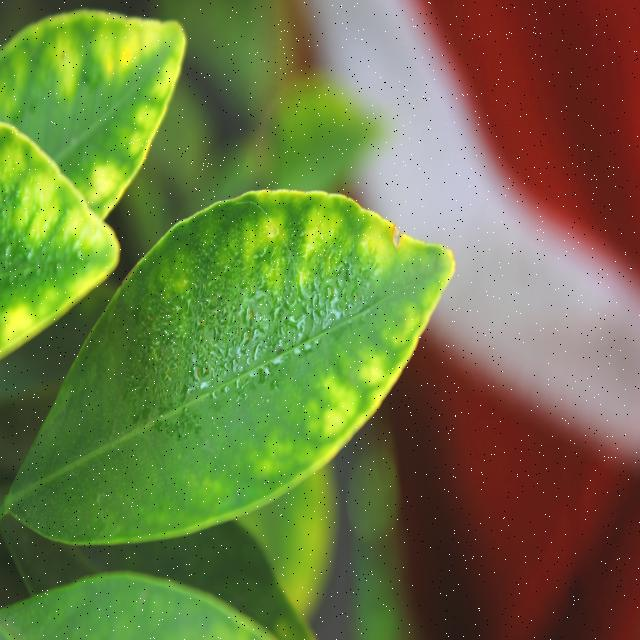greening: (122, 183, 456, 498), (26, 14, 179, 188), (1, 148, 110, 344)
